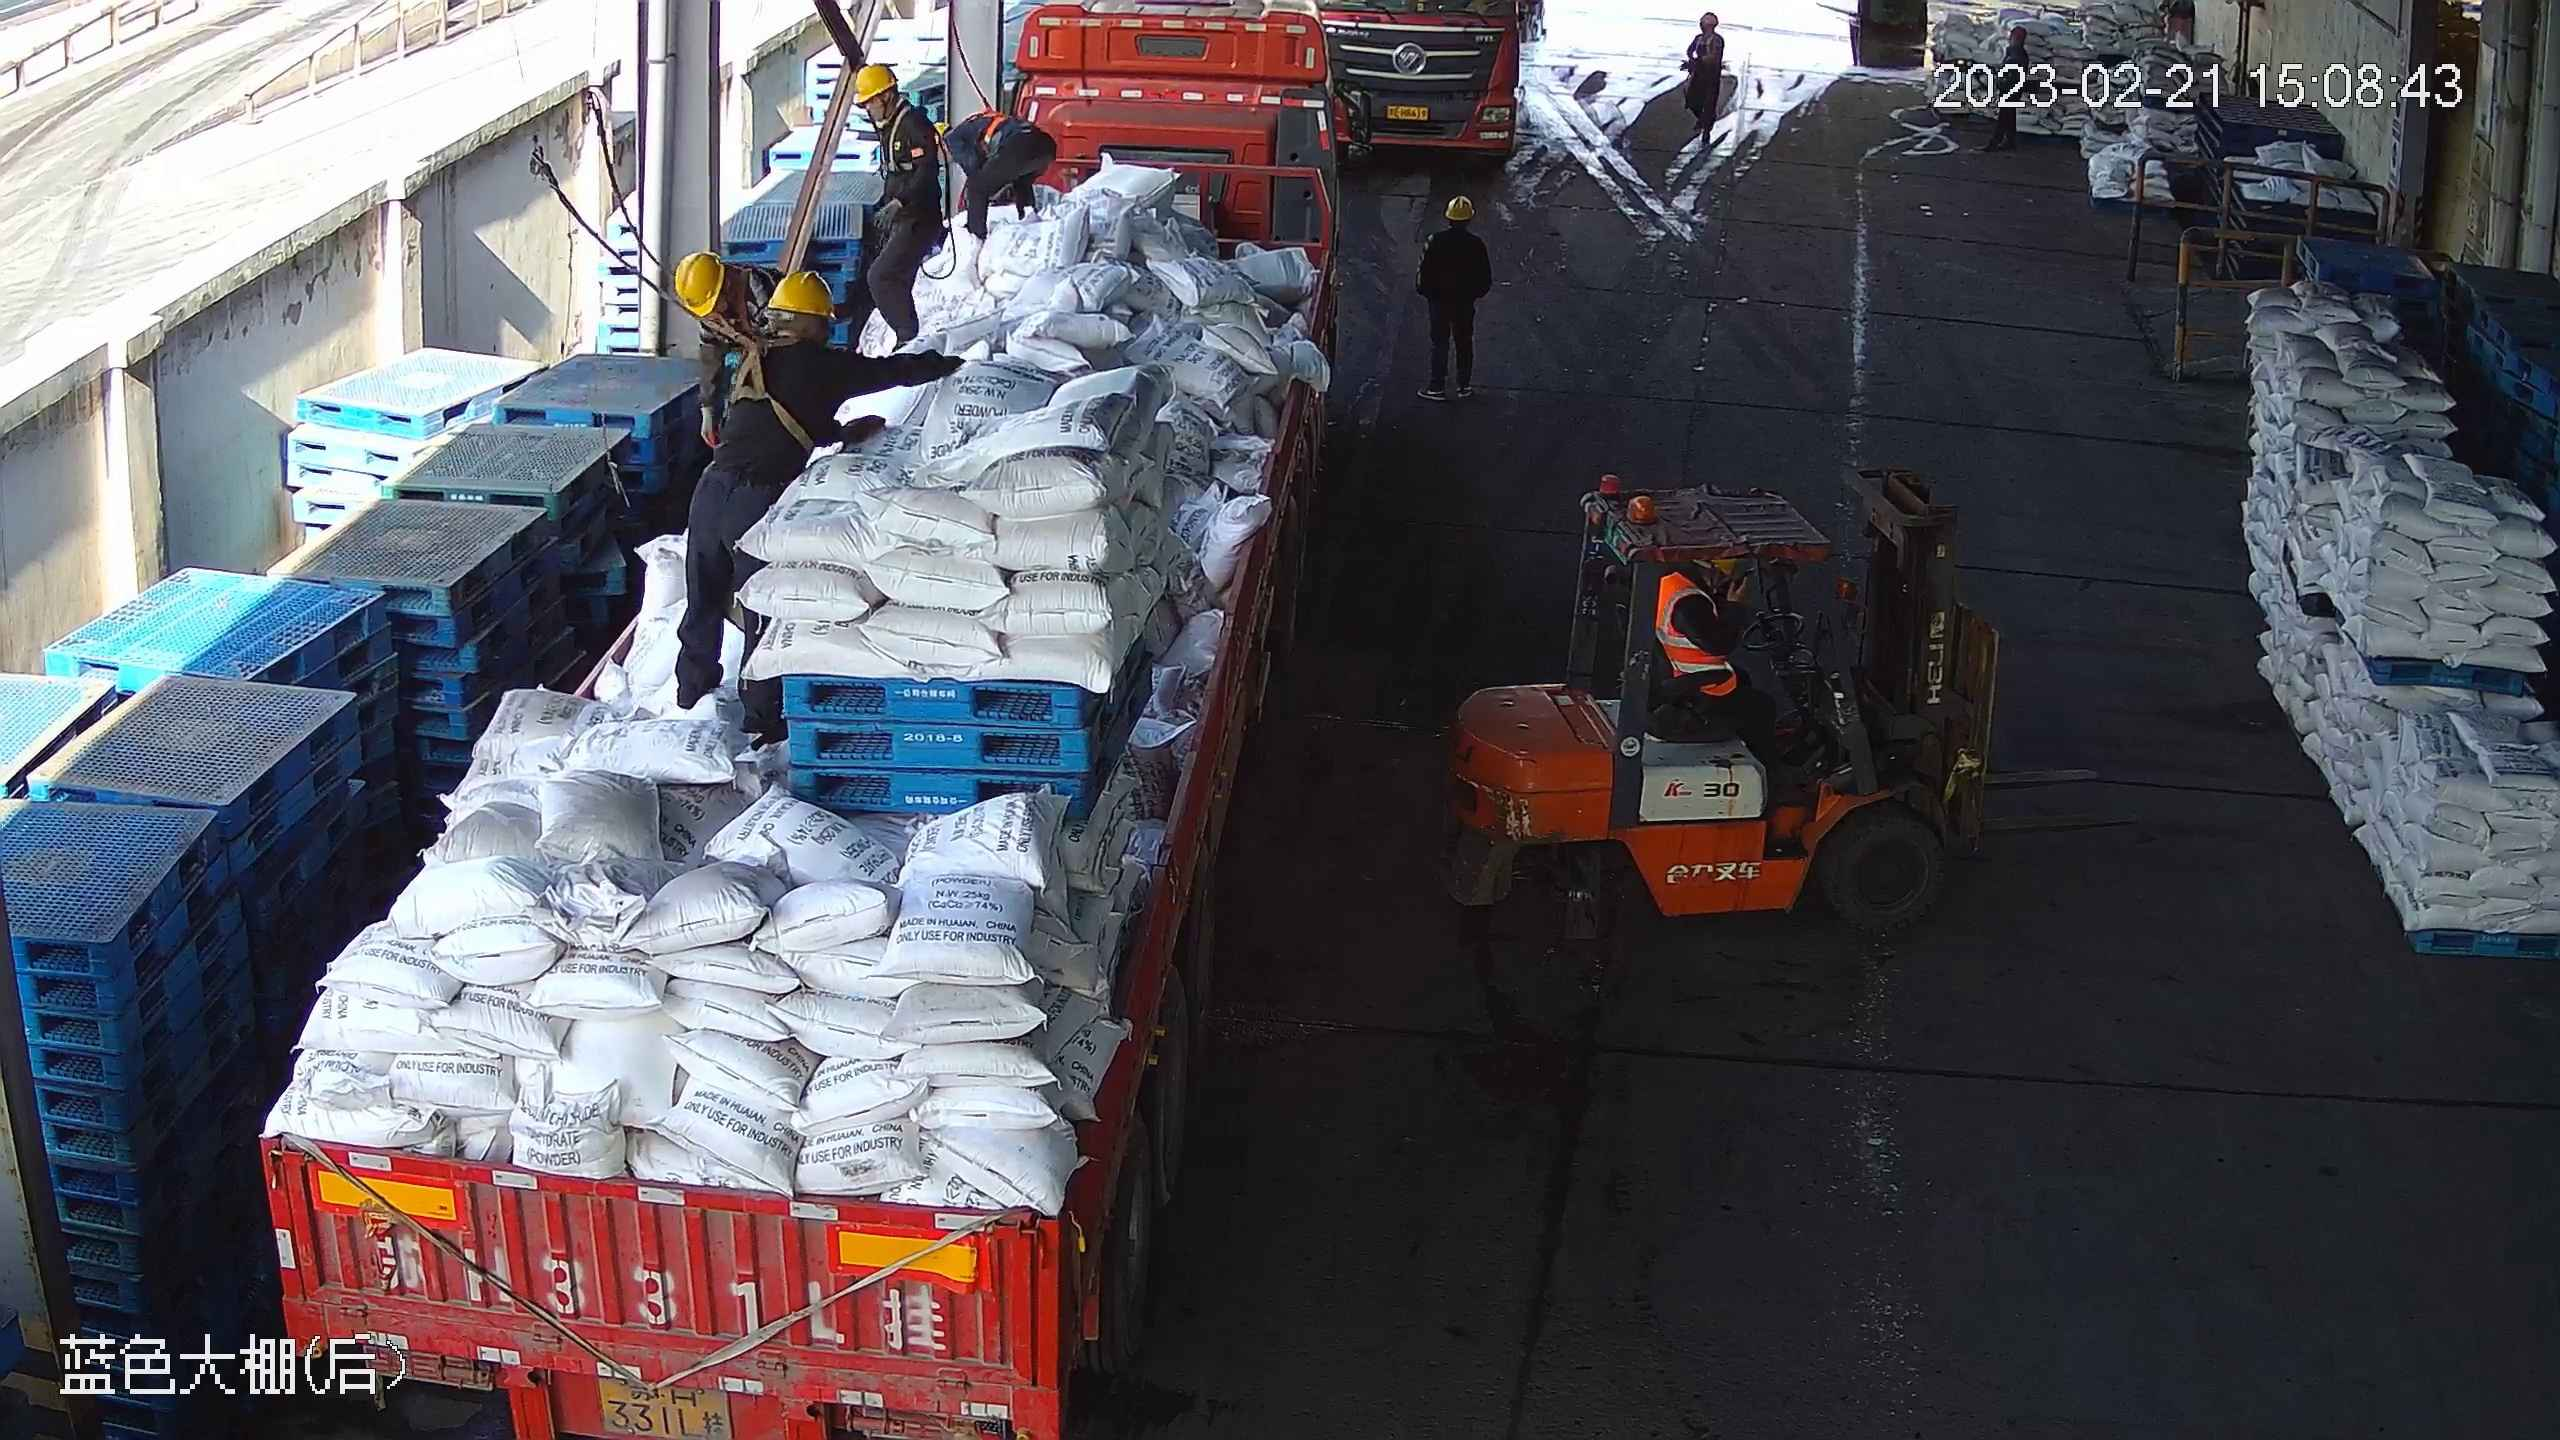belt: (713, 321, 831, 453)
head: (740, 268, 848, 398), (670, 247, 776, 335), (851, 61, 942, 140), (1653, 551, 1741, 624)
helmet: (766, 268, 837, 318), (672, 250, 723, 318), (851, 62, 901, 105)
people: (1639, 550, 1801, 798)
truck: (245, 1, 1346, 1434)
